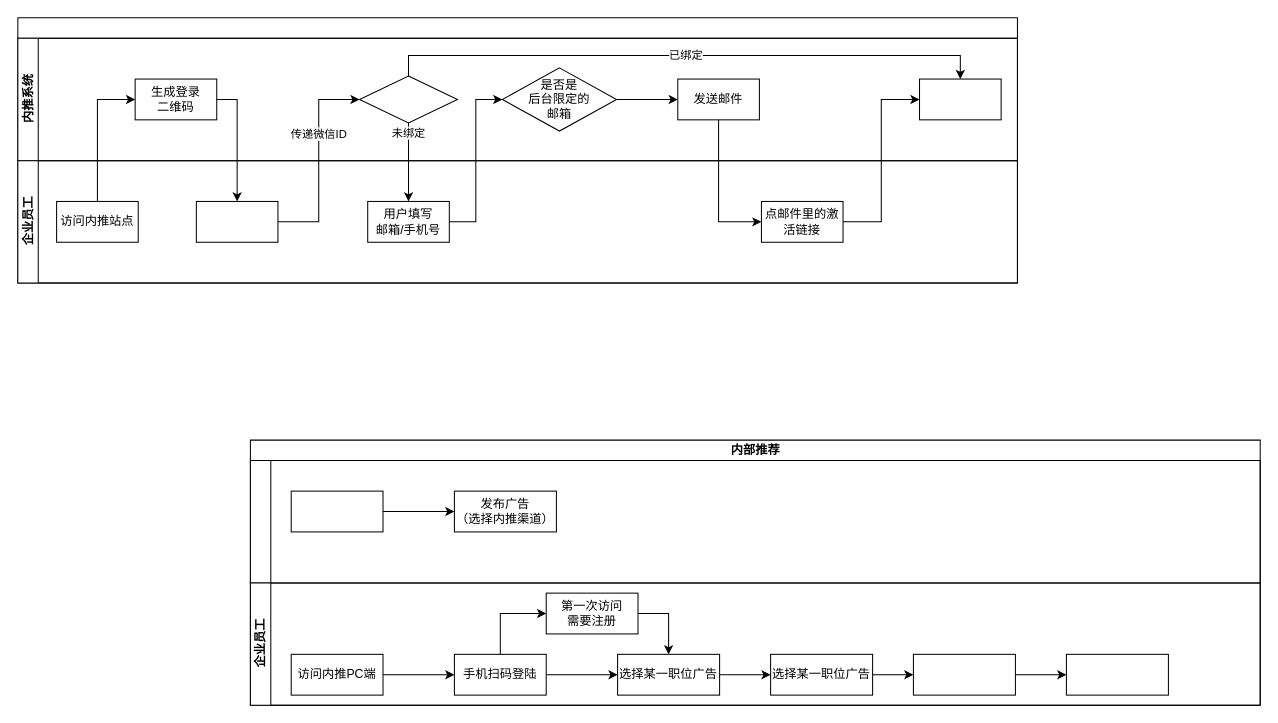
This 1278x723 diagram has some shape labels left out. Here are the shapes that lost their labels. From the top down, the box of each, then its label:
(359, 75, 457, 123): 是否绑定？
(919, 78, 1001, 120): 返回内推页面
(17, 17, 1017, 283): 企业员工进内推系统
(195, 200, 278, 242): 微信扫码
(290, 490, 383, 532): 创建职位
(249, 460, 1260, 583): 管理员
(912, 653, 1015, 695): 点投递简历 填写候选人信息
(1065, 653, 1168, 695): 点投递 （内部查重）
